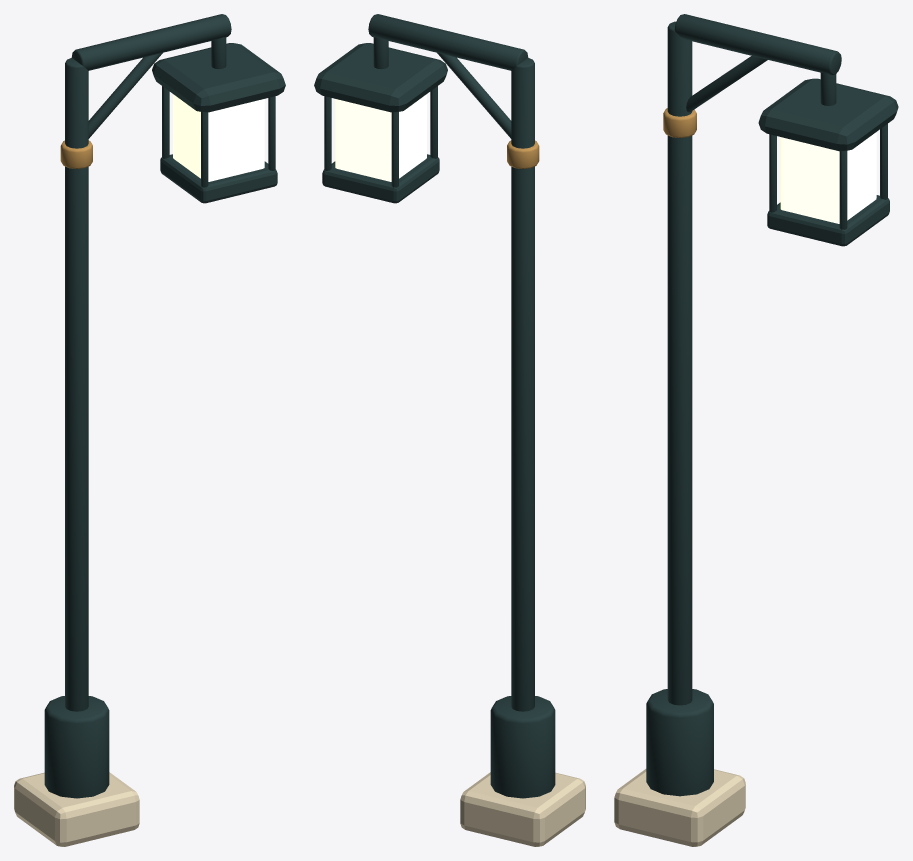
The model's file is street_lamp.glb.
3 views of the same model, side by side, from view 1: azimuth 30°, elevation 25°; view 2: azimuth 150°, elevation 25°; view 3: azimuth 330°, elevation 25° (orthographic). The views are drawn at different scales.
Visible parts, largest first — view 1: Lamp pole, Lamp footing, Flared base, Lantern lid, Warm lantern lens, Lantern arm, Lantern base, Diagonal brace, Brass collar, Lantern frame, Lantern frame.002, Lantern frame.001; view 2: Lamp pole, Lamp footing, Flared base, Lantern lid, Warm lantern lens, Lantern arm, Lantern base, Diagonal brace, Brass collar, Lantern frame.001, Lantern frame.003, Lantern frame; view 3: Lamp pole, Lamp footing, Flared base, Lantern lid, Warm lantern lens, Lantern arm, Lantern base, Diagonal brace, Brass collar, Lantern frame.002, Lantern frame, Lantern frame.003.
Boxes of the visible parts, x1,y1,x2,y2 form: Lamp pole: (65, 58, 88, 711); Lamp footing: (14, 772, 139, 846); Flared base: (44, 696, 109, 798); Lantern lid: (152, 43, 285, 112); Warm lantern lens: (173, 94, 264, 181); Lantern arm: (71, 14, 231, 70); Lantern base: (160, 154, 277, 203); Diagonal brace: (88, 53, 162, 138); Brass collar: (60, 140, 92, 168); Lantern frame: (201, 112, 208, 187); Lantern frame.002: (268, 96, 275, 170); Lantern frame.001: (162, 86, 169, 158); Lamp pole: (511, 58, 534, 711); Lamp footing: (460, 772, 585, 846); Flared base: (490, 696, 555, 798); Lantern lid: (314, 43, 447, 112); Warm lantern lens: (335, 94, 426, 181); Lantern arm: (368, 14, 528, 70); Lantern base: (322, 154, 439, 203); Diagonal brace: (437, 53, 511, 138); Brass collar: (507, 140, 539, 168); Lantern frame.001: (391, 112, 398, 187); Lantern frame.003: (324, 96, 331, 170); Lantern frame: (430, 86, 437, 158); Lamp pole: (667, 21, 692, 705); Lamp footing: (614, 769, 745, 846); Flared base: (646, 689, 713, 796); Lantern lid: (758, 78, 898, 151); Warm lantern lens: (780, 132, 876, 223); Lantern arm: (674, 14, 841, 75); Lantern base: (767, 195, 889, 246); Diagonal brace: (686, 56, 767, 112); Brass collar: (663, 108, 696, 137); Lantern frame.002: (839, 151, 847, 229); Lantern frame: (769, 134, 776, 212); Lantern frame.003: (880, 124, 887, 199).
Size of the model in its own units: 1.23 by 3.96 by 0.49.
